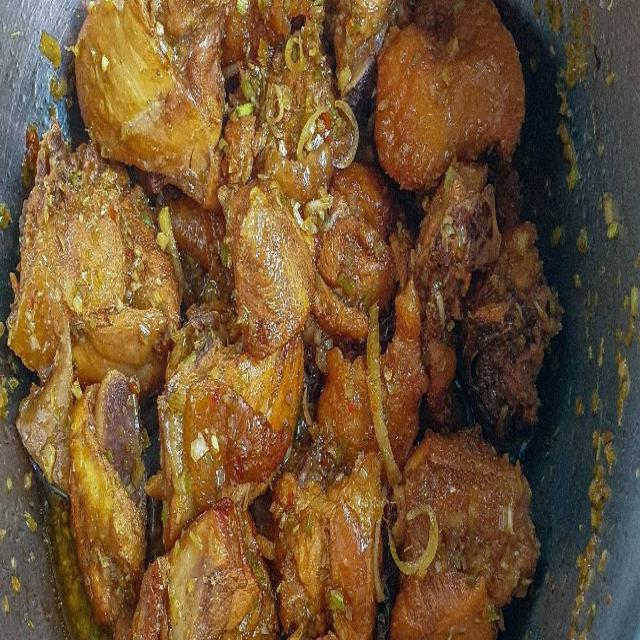ga kho: (8, 0, 558, 639)
